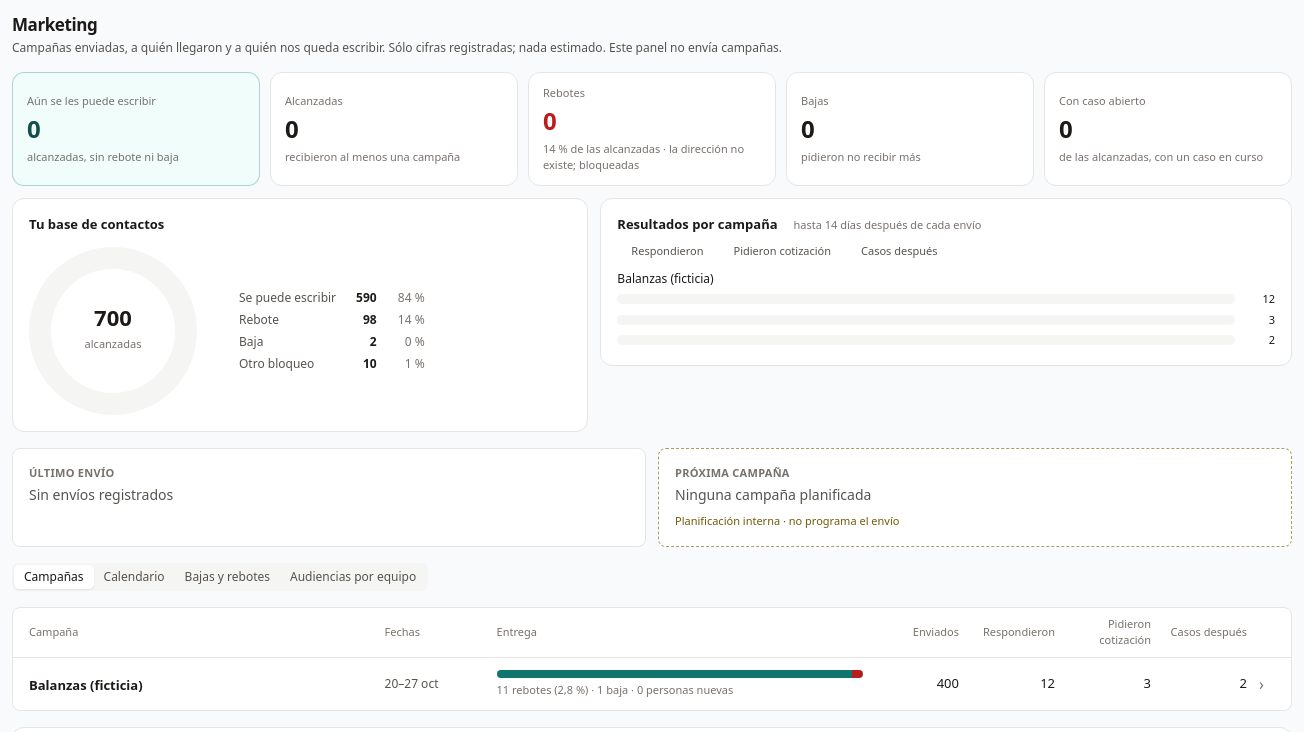
Test case: review fixes › a figure the CRM cannot measure opens «Aún no medido», not an empty list
Click the button with test id "campaign-row". click: (646, 684)
box: [29,670,1264,698]
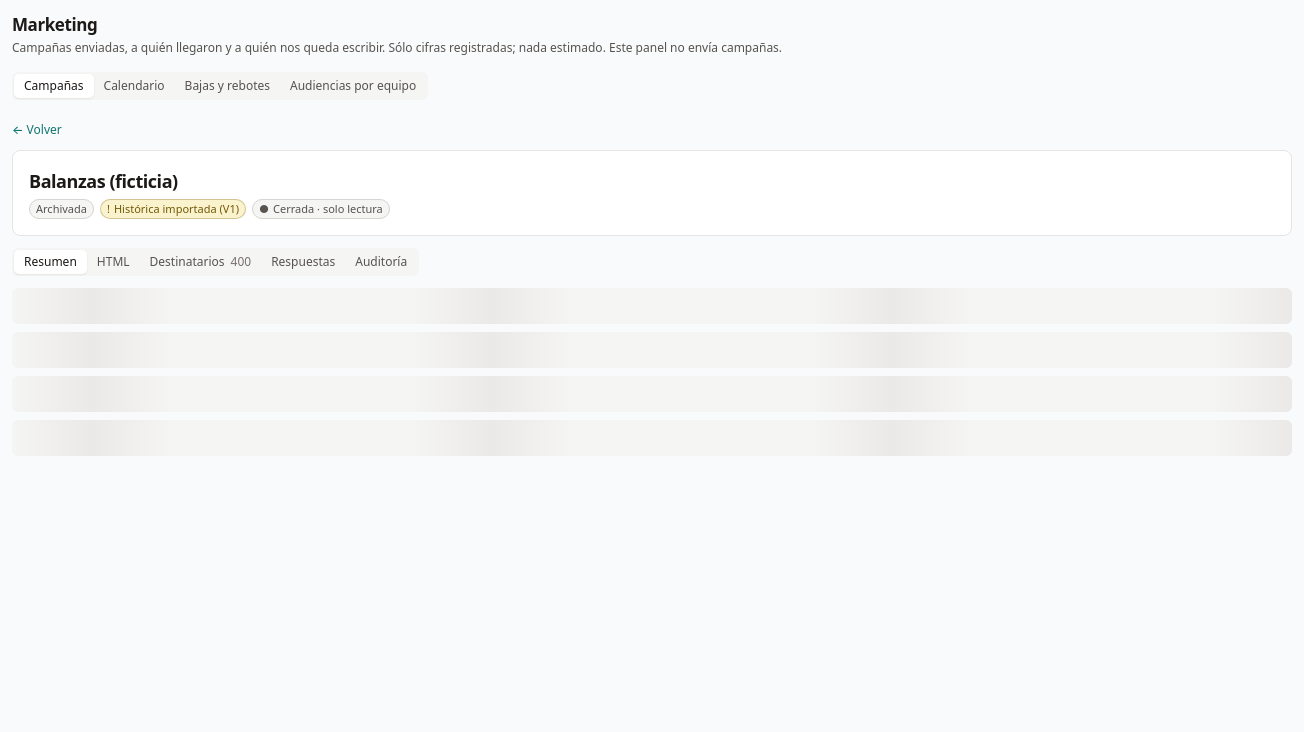
Click the button "Respuestas". click: (303, 262)
box: [261,250,345,274]
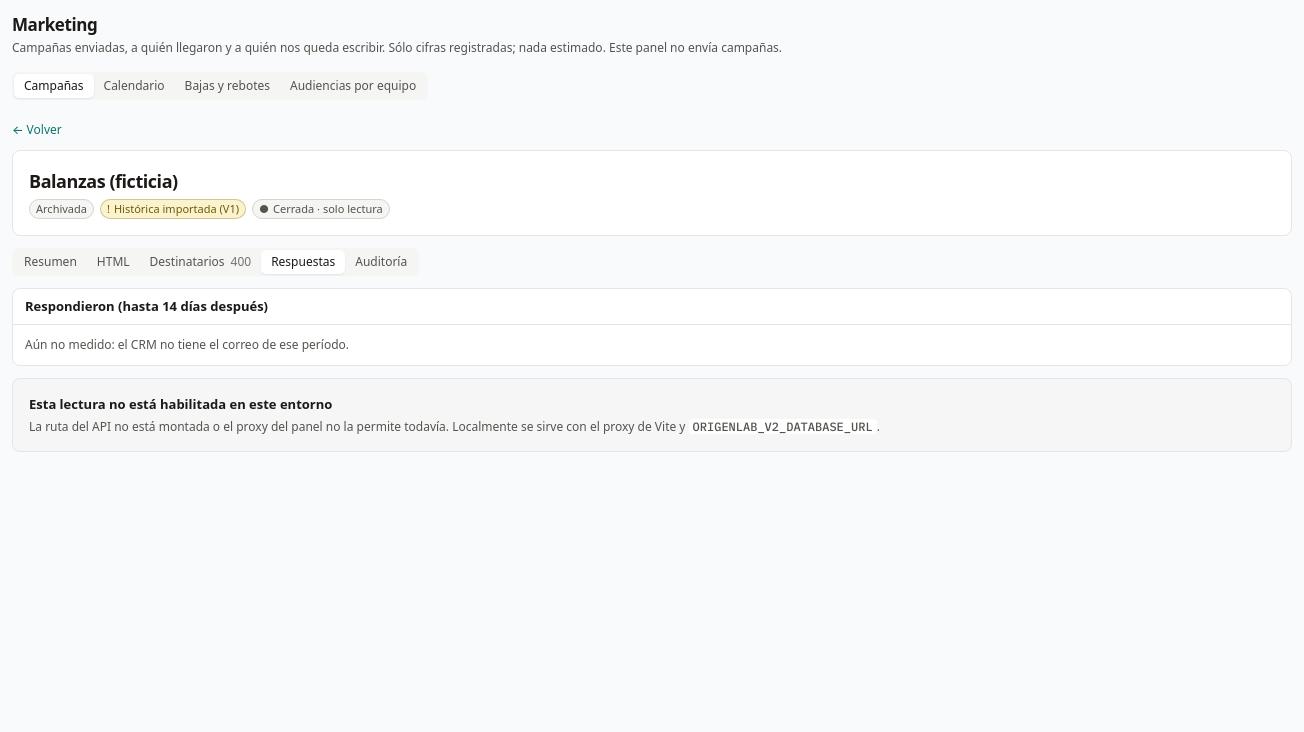
Expected: the text with test id "people-unmeasured" shows "Aún no medido", [25,336,349,353]
